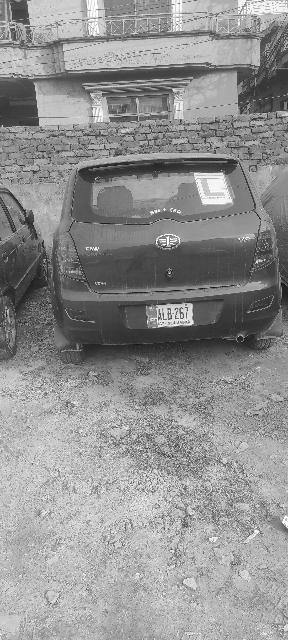Number: (158, 307, 192, 321)
